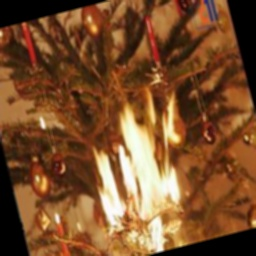fire: (76, 84, 202, 224)
